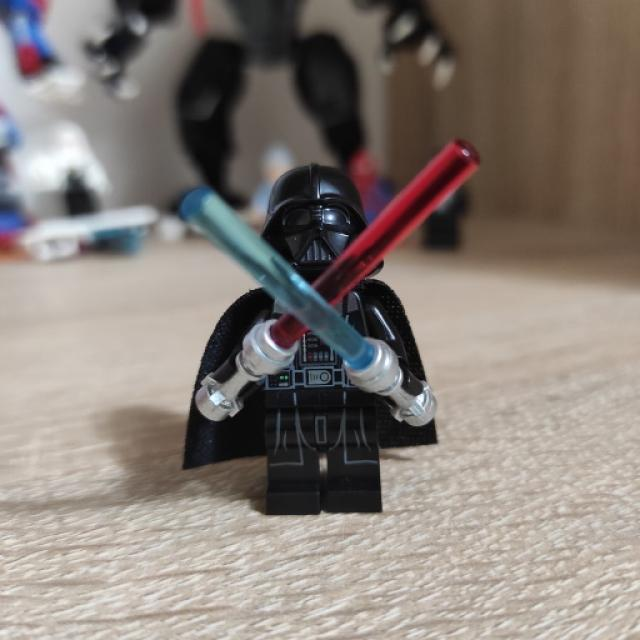Lego-Minifigures: (162, 141, 482, 533)
